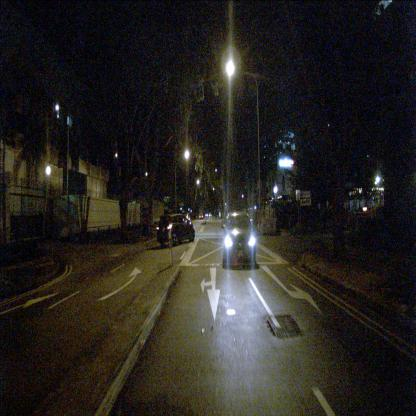vehicle-car: (222, 212, 256, 264), (157, 213, 195, 246)
